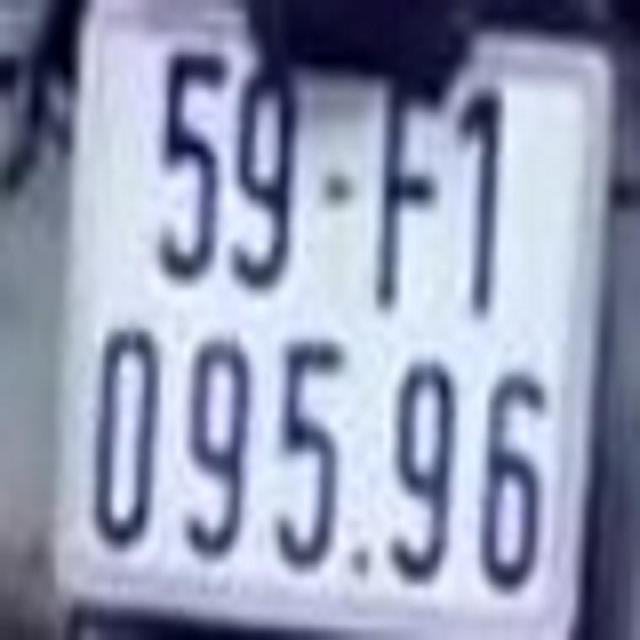0: (94, 326, 162, 544)
1: (457, 85, 499, 318)
5: (160, 47, 228, 286), (280, 338, 340, 568)
6: (487, 373, 548, 590)
9: (389, 356, 458, 586), (191, 336, 252, 567), (235, 69, 290, 290)
F: (384, 71, 446, 315)
